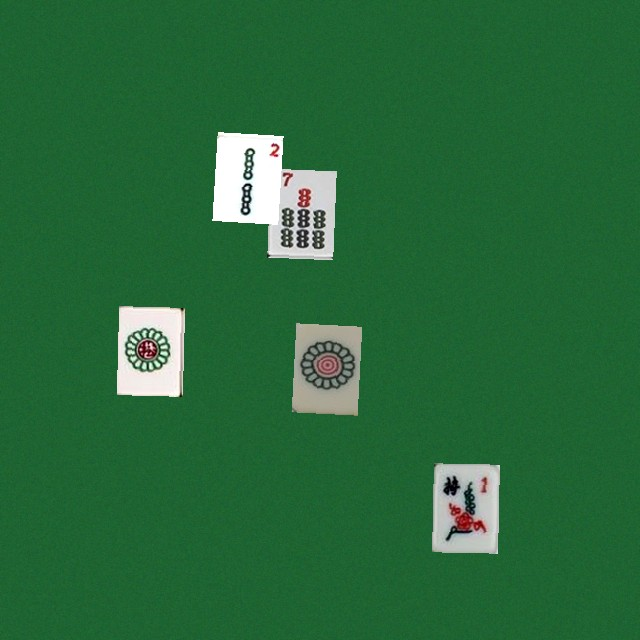tile: (432, 463, 498, 552), (291, 323, 357, 412), (116, 306, 182, 395), (267, 168, 333, 257), (212, 132, 278, 221)
